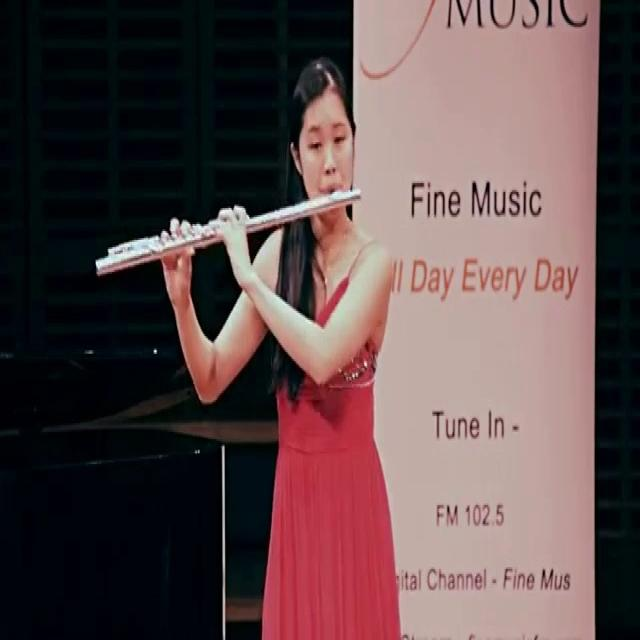Santur: (88, 174, 371, 290)
